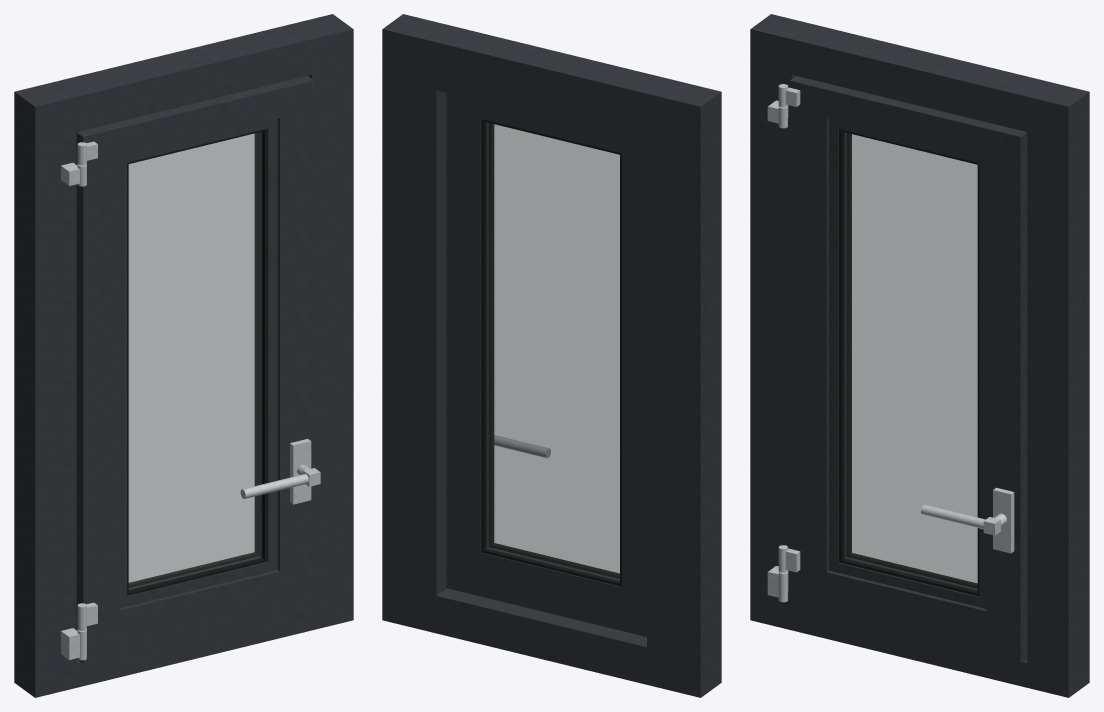
The model's file is Window_Procedural.glb.
The picture shows the model from 3 angles, left to right: view 1: azimuth 30°, elevation 25°; view 2: azimuth 150°, elevation 25°; view 3: azimuth 330°, elevation 25°; orthographic projection.
Parts seen in each view (by area): view 1: Window_Frame, Window_Sash_Frame, Window_Glass, Window_Gasket, Window_Handle, Window_Frame_Hinges, Window_Sash_Hinges; view 2: Window_Frame, Window_Glass, Window_Sash_Frame, Window_Gasket, Window_Handle; view 3: Window_Frame, Window_Sash_Frame, Window_Glass, Window_Gasket, Window_Handle, Window_Frame_Hinges, Window_Sash_Hinges.
Part boxes in pixels (x1,y1,x2,y2): Window_Frame: [14, 14, 353, 697]; Window_Sash_Frame: [76, 76, 314, 663]; Window_Glass: [128, 132, 261, 589]; Window_Gasket: [127, 128, 267, 595]; Window_Handle: [240, 439, 320, 504]; Window_Frame_Hinges: [61, 162, 86, 660]; Window_Sash_Hinges: [77, 141, 97, 630]; Window_Frame: [382, 14, 721, 697]; Window_Glass: [487, 123, 619, 580]; Window_Sash_Frame: [446, 93, 646, 636]; Window_Gasket: [481, 119, 621, 586]; Window_Handle: [494, 435, 550, 458]; Window_Frame: [750, 14, 1089, 697]; Window_Sash_Frame: [789, 76, 1027, 663]; Window_Glass: [845, 133, 977, 589]; Window_Gasket: [839, 129, 979, 596]; Window_Handle: [921, 487, 1014, 553]; Window_Frame_Hinges: [767, 100, 788, 602]; Window_Sash_Hinges: [778, 84, 800, 572].
Bounding box in the file's own units: 0.62 × 1.1 × 0.139.
Materials: 4 (2 with a texture image).
